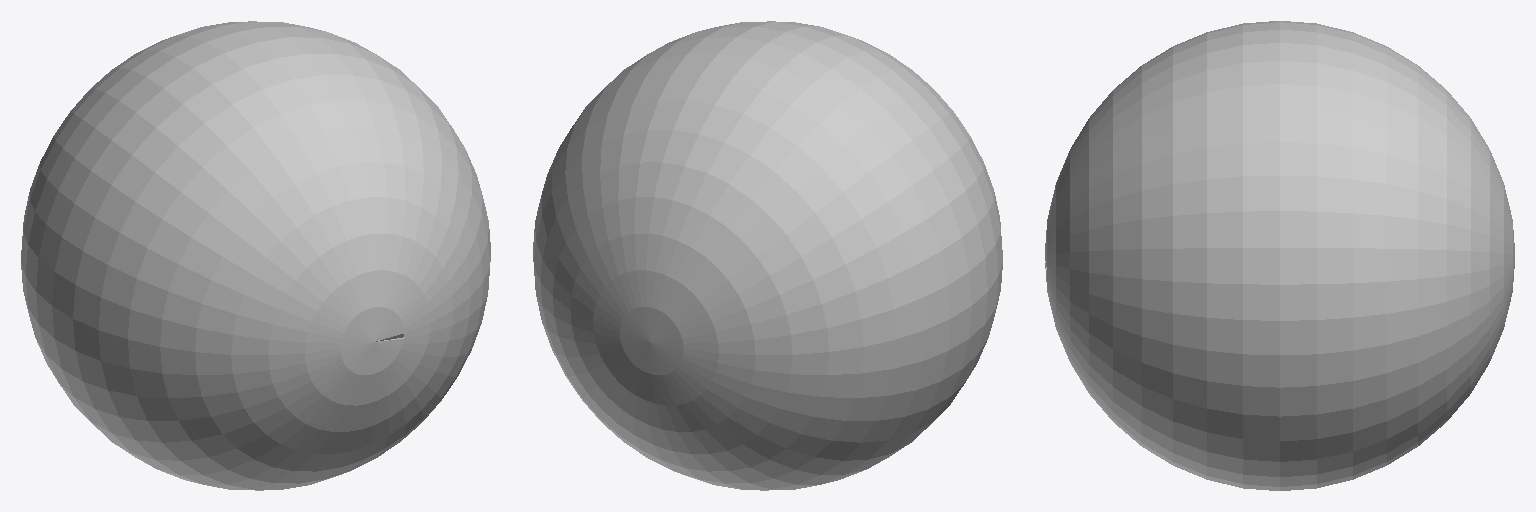
The model's file is input5 (2).obj.
3 views of the same model, side by side, from view 1: azimuth 30°, elevation 25°; view 2: azimuth 150°, elevation 25°; view 3: azimuth 270°, elevation 25° (orthographic).
Visible parts, largest first — view 1: Sphera; view 2: Sphera; view 3: Sphera.
Part boxes in pixels (x1,y1,x2,y2): Sphera: (21,21,490,490); Sphera: (533,21,1002,490); Sphera: (1045,21,1514,490).
Bounding box in the file's own units: 1000 × 1000 × 1000.